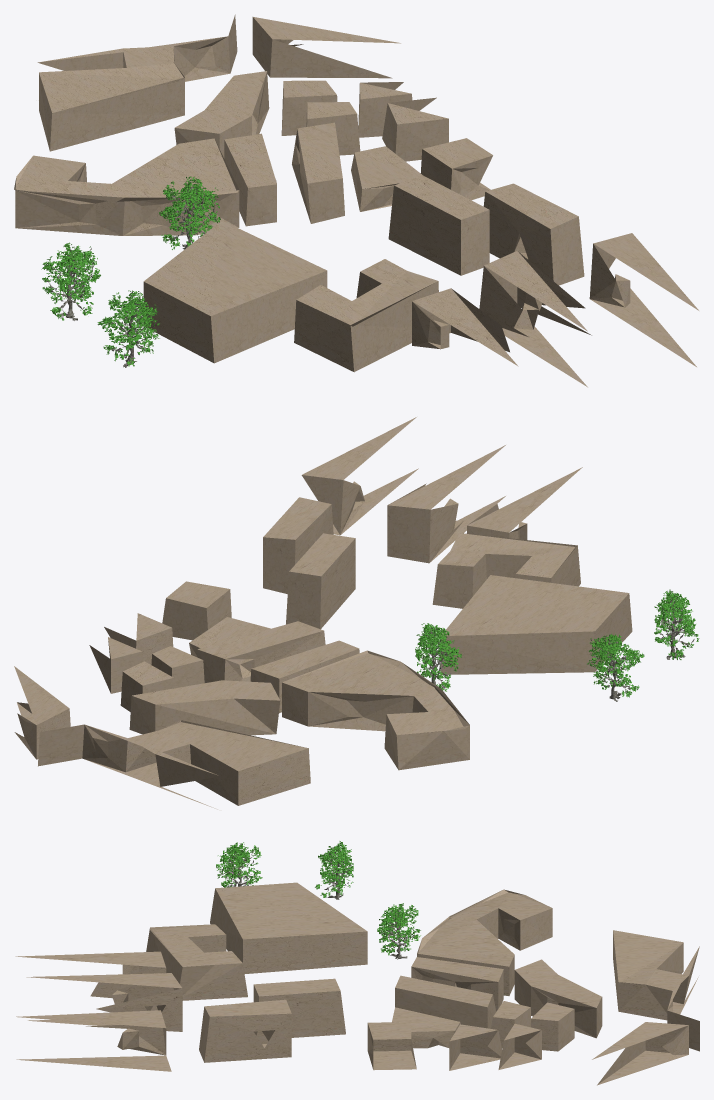
File: tile_-2_0.gltf
The picture shows the model from 3 angles, top to bottom: view 1: azimuth 30°, elevation 25°; view 2: azimuth 150°, elevation 25°; view 3: azimuth 270°, elevation 25°; orthographic projection. The views are drawn at different scales.
Parts seen in each view (by area): view 1: Plane.011@tile_-2_0, Bodhi Tree_Bodhi_front_2_Mat_0.044@tile_-2_0; view 2: Plane.011@tile_-2_0, Bodhi Tree_Bodhi_front_2_Mat_0.044@tile_-2_0; view 3: Plane.011@tile_-2_0, Bodhi Tree_Bodhi_front_2_Mat_0.044@tile_-2_0.
Boxes of the visible parts, <box> form: Plane.011@tile_-2_0: <box>14,14,698,387</box>; Bodhi Tree_Bodhi_front_2_Mat_0.044@tile_-2_0: <box>41,176,220,367</box>; Plane.011@tile_-2_0: <box>14,417,632,809</box>; Bodhi Tree_Bodhi_front_2_Mat_0.044@tile_-2_0: <box>415,589,699,701</box>; Plane.011@tile_-2_0: <box>15,882,699,1085</box>; Bodhi Tree_Bodhi_front_2_Mat_0.044@tile_-2_0: <box>216,841,420,959</box>.
Bounding box in the file's own units: 78.37 × 10.93 × 114.
3 materials, 2 textured.
